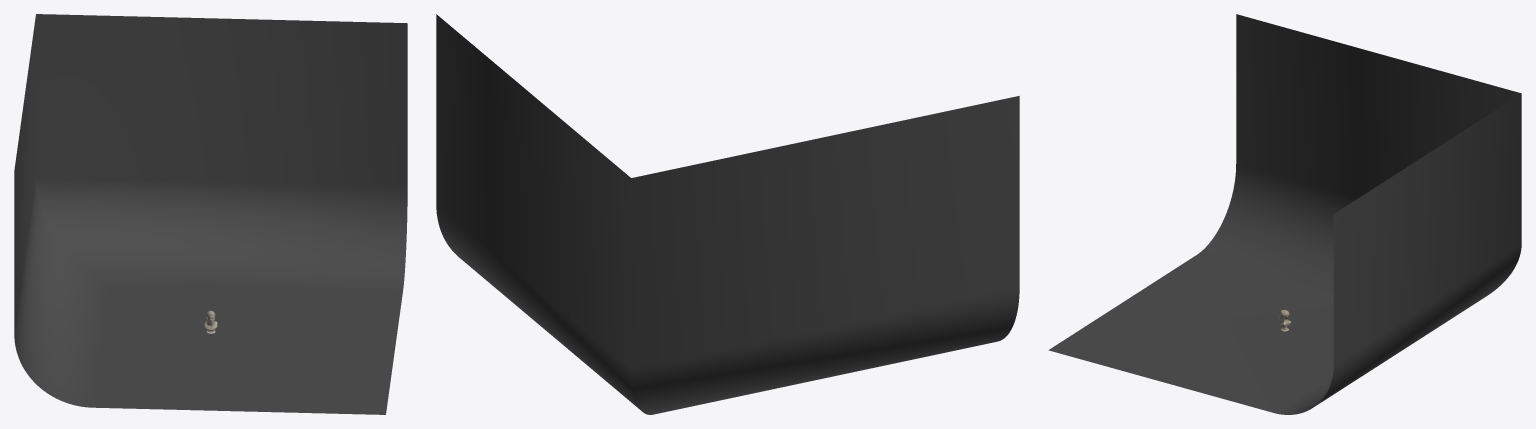
Rendered from Statue.gltf.
3 renders of one model, left to right at view 1: azimuth 30°, elevation 25°; view 2: azimuth 150°, elevation 25°; view 3: azimuth 270°, elevation 25°, orthographic. The views are drawn at different scales.
Parts seen in each view (by area): view 1: Plane; view 2: Plane; view 3: Plane.
Part boxes in pixels (x1=…): Plane: x1=14, y1=14, x2=407, y2=414; Plane: x1=436, y1=14, x2=1019, y2=414; Plane: x1=1048, y1=14, x2=1521, y2=414.
Bounding box in the file's own units: 23.36 × 11.77 × 23.36.
Materials: 2 (1 with a texture image).
